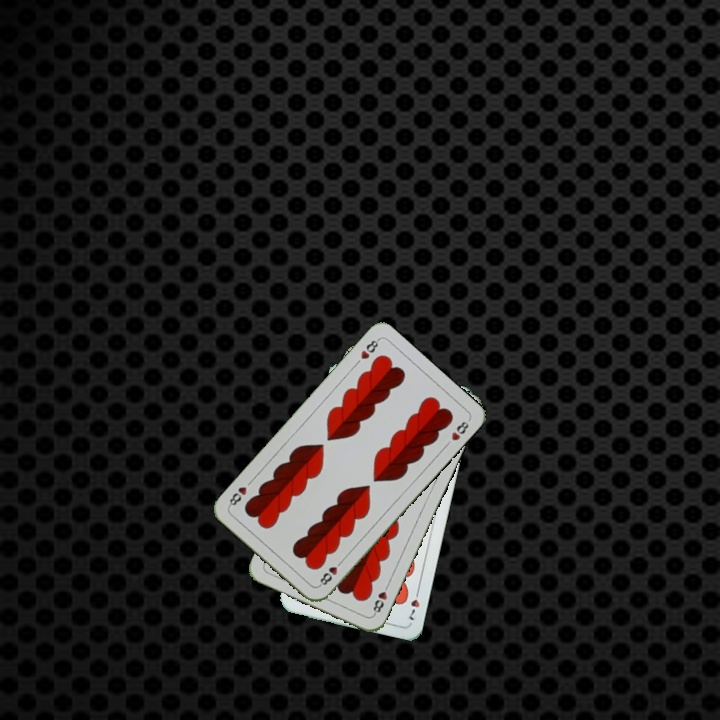H7: (405, 584, 422, 623)
H8: (315, 555, 346, 589), (369, 579, 392, 617), (357, 335, 382, 362)
